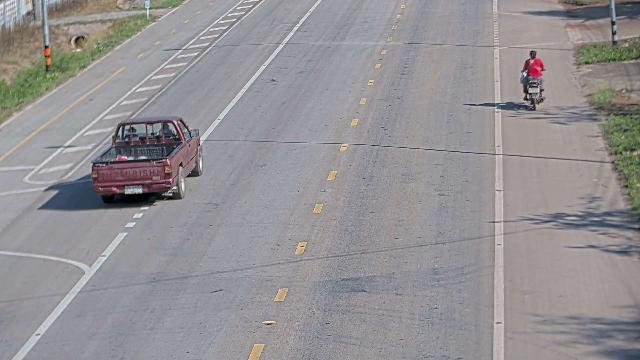motorcycle: (521, 49, 546, 113)
pickup-truck: (90, 115, 203, 203)
